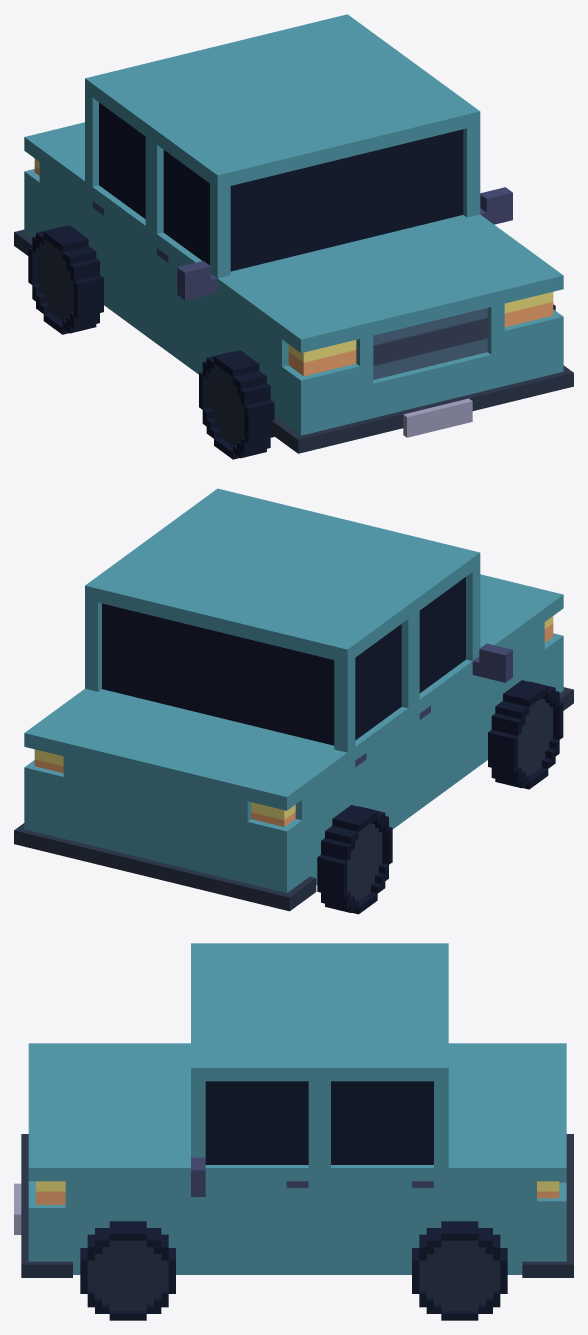
The model's file is BasicCar.fbx.
3 views of the same model, one above another, from view 1: azimuth 30°, elevation 25°; view 2: azimuth 150°, elevation 25°; view 3: azimuth 270°, elevation 25° (orthographic). The views are drawn at different scales.
Parts seen in each view (by area): view 1: Object; view 2: Object; view 3: Object.
Part boxes in pixels (<box>): Object: <box>14,14,573,459</box>; Object: <box>14,488,573,914</box>; Object: <box>14,943,573,1320</box>.
Bounding box in the file's own units: 50 × 36 × 76.
